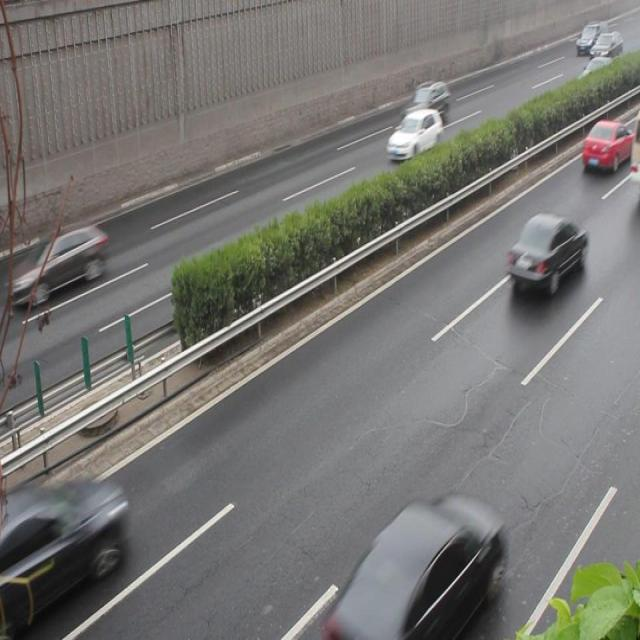car: (339, 493, 496, 640), (0, 481, 124, 634), (506, 212, 587, 296), (24, 222, 106, 302), (580, 119, 640, 173), (385, 108, 442, 162), (401, 81, 450, 128)
